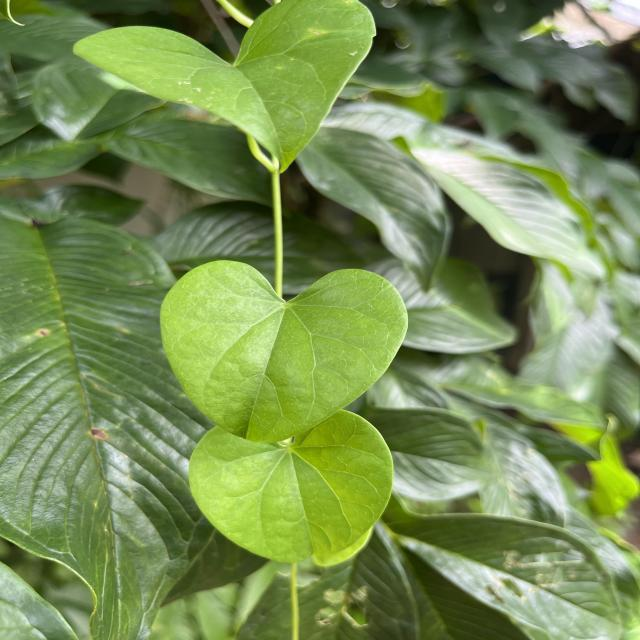Tinospora cordifolia: (70, 0, 380, 180), (157, 258, 411, 446), (186, 407, 396, 565)
